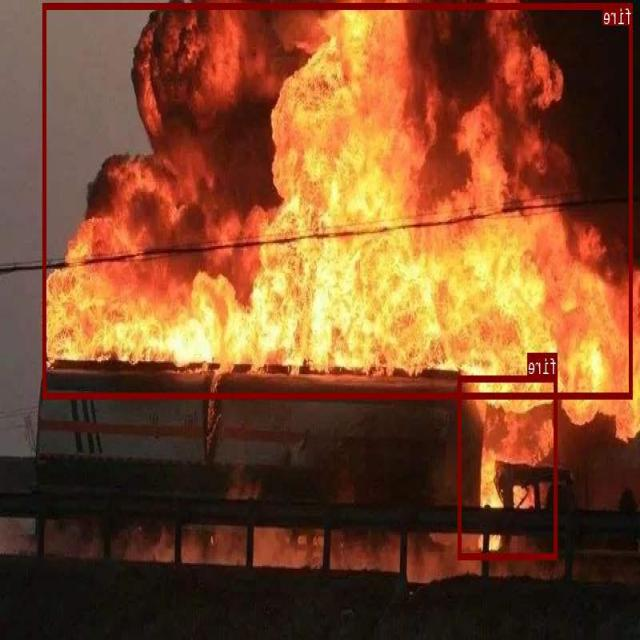fire: (43, 2, 633, 398), (459, 374, 558, 558)
